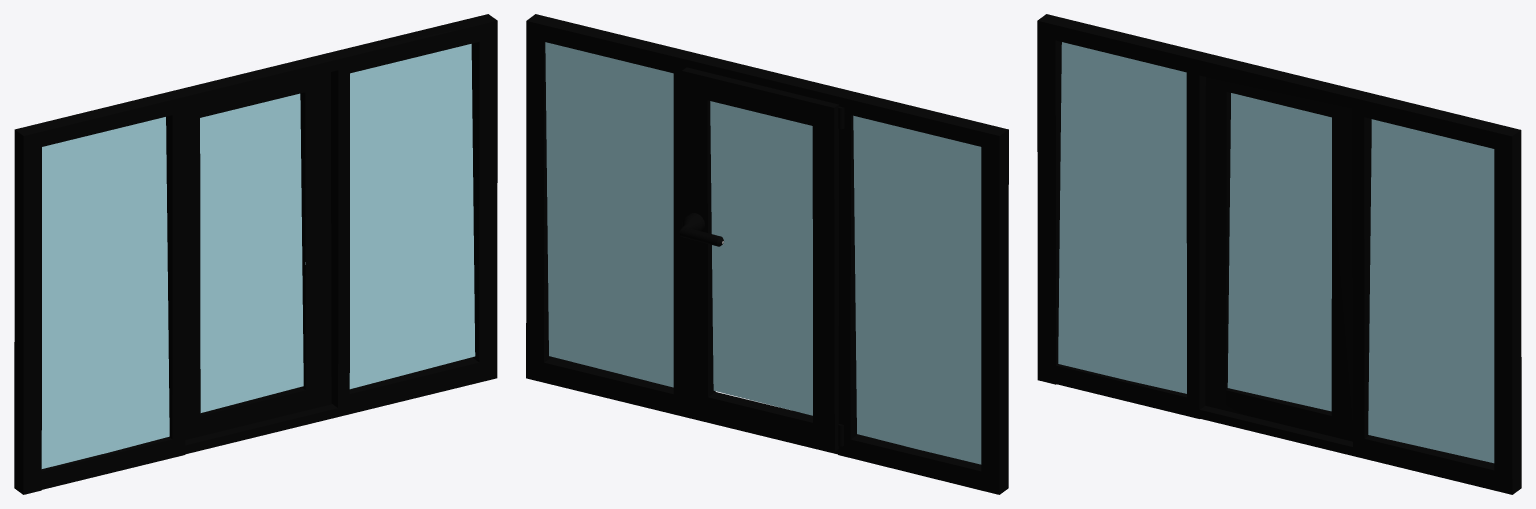
File: 3side_window.glb
The picture shows the model from 3 angles, left to right: view 1: azimuth 30°, elevation 25°; view 2: azimuth 150°, elevation 25°; view 3: azimuth 330°, elevation 25°; orthographic projection.
Visible parts, largest first — view 1: Plane, Plane_4, Plane_3, Plane_2, Plane_1; view 2: Plane, Plane_4, Plane_3, Plane_2, Plane_1, Tube; view 3: Plane, Plane_4, Plane_3, Plane_2, Plane_1.
Part boxes in pixels (left/top/right/bottom): Plane: left=14, top=14, right=497, bottom=494; Plane_4: left=41, top=117, right=169, bottom=468; Plane_3: left=349, top=44, right=475, bottom=389; Plane_2: left=200, top=93, right=305, bottom=412; Plane_1: left=185, top=72, right=331, bottom=439; Plane: left=526, top=14, right=1008, bottom=494; Plane_4: left=853, top=115, right=981, bottom=464; Plane_3: left=545, top=42, right=673, bottom=387; Plane_2: left=710, top=101, right=812, bottom=415; Plane_1: left=682, top=67, right=838, bottom=451; Tube: left=679, top=213, right=723, bottom=246; Plane: left=1037, top=14, right=1521, bottom=494; Plane_4: left=1058, top=42, right=1186, bottom=393; Plane_3: left=1368, top=119, right=1494, bottom=463; Plane_2: left=1227, top=93, right=1331, bottom=411; Plane_1: left=1205, top=77, right=1352, bottom=441.
Size of the model in its own units: 7.4 by 5.36 by 0.7783.
